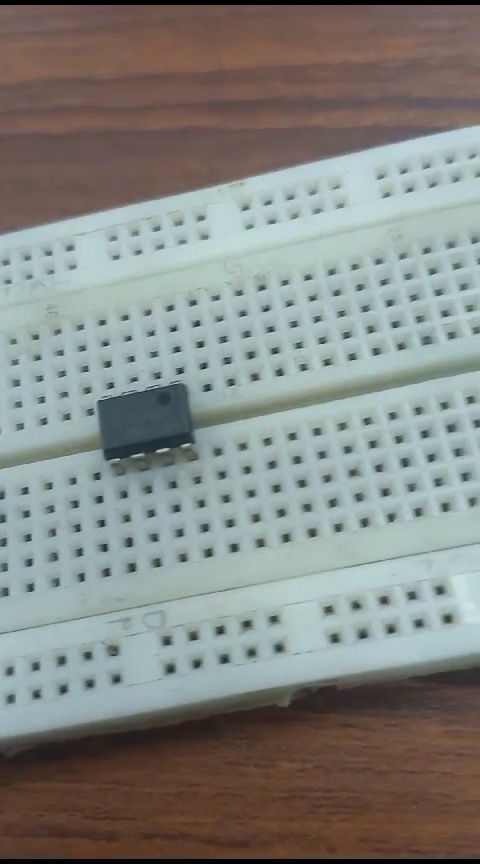IC: (80, 389, 206, 463)
